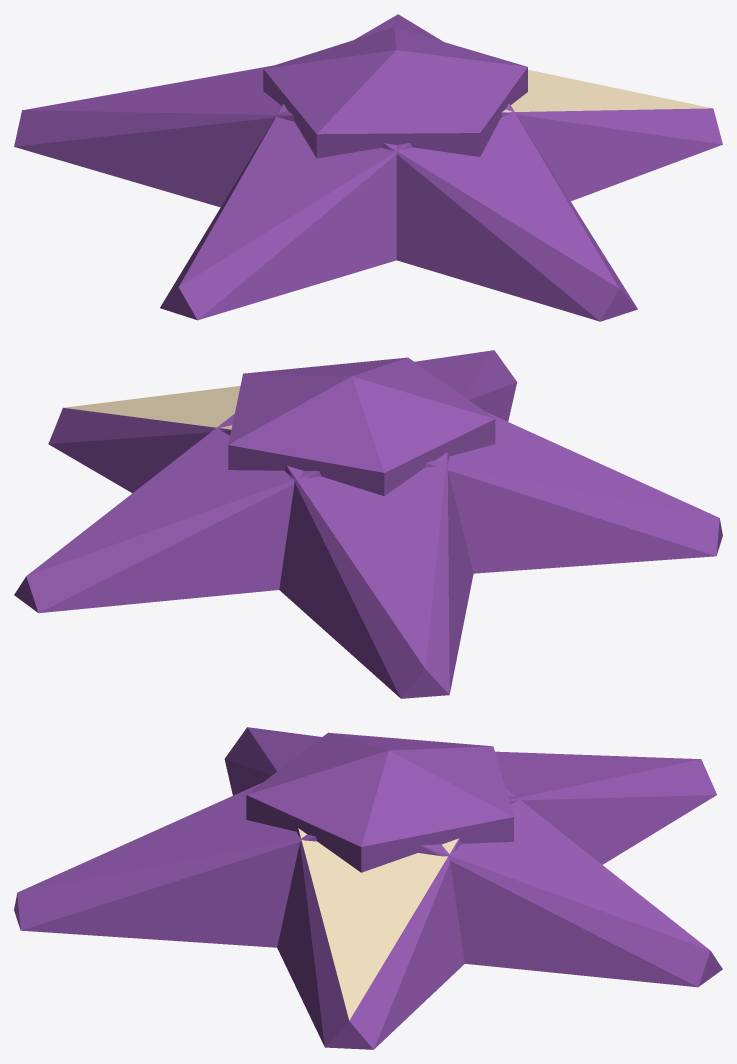
File: Starfish_2.glb
3 views of the same model, one above another, from view 1: azimuth 30°, elevation 25°; view 2: azimuth 150°, elevation 25°; view 3: azimuth 270°, elevation 25° (orthographic). The views are drawn at different scales.
Parts seen in each view (by area): view 1: Starfish_2; view 2: Starfish_2; view 3: Starfish_2.
Boxes of the visible parts, x1,y1,x2,y2 form: Starfish_2: [14, 14, 722, 321]; Starfish_2: [14, 350, 722, 698]; Starfish_2: [14, 727, 722, 1049].
Bounding box in the file's own units: 0.3454 × 0.08 × 0.3463.
